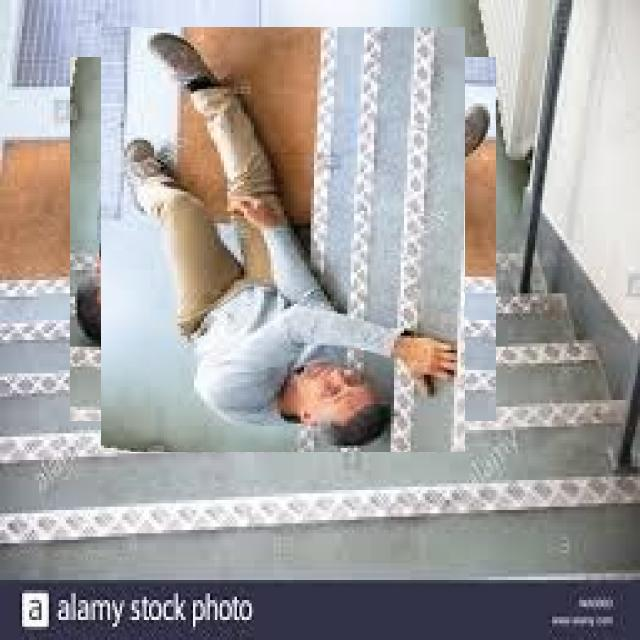Fall: (99, 23, 467, 445)
